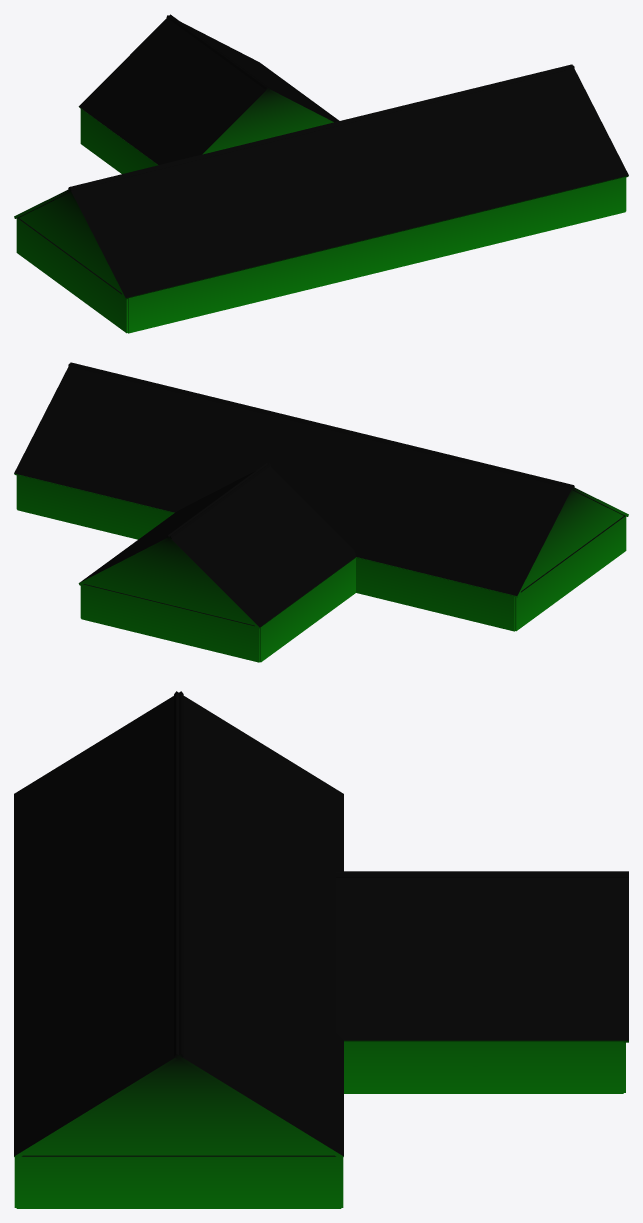
Rendered from hqtent.glb.
3 renders of one model, top to bottom at view 1: azimuth 30°, elevation 25°; view 2: azimuth 150°, elevation 25°; view 3: azimuth 270°, elevation 25°, orthographic. The views are drawn at different scales.
Visible parts, largest first — view 1: lod0; view 2: lod0; view 3: lod0.
Part boxes in pixels (x1,y1,x2,y2): lod0: (14, 14, 628, 333); lod0: (14, 362, 628, 662); lod0: (14, 691, 628, 1208).
Size of what is drawn, in the model's own units: 16.4 by 3.3 by 11.75.
